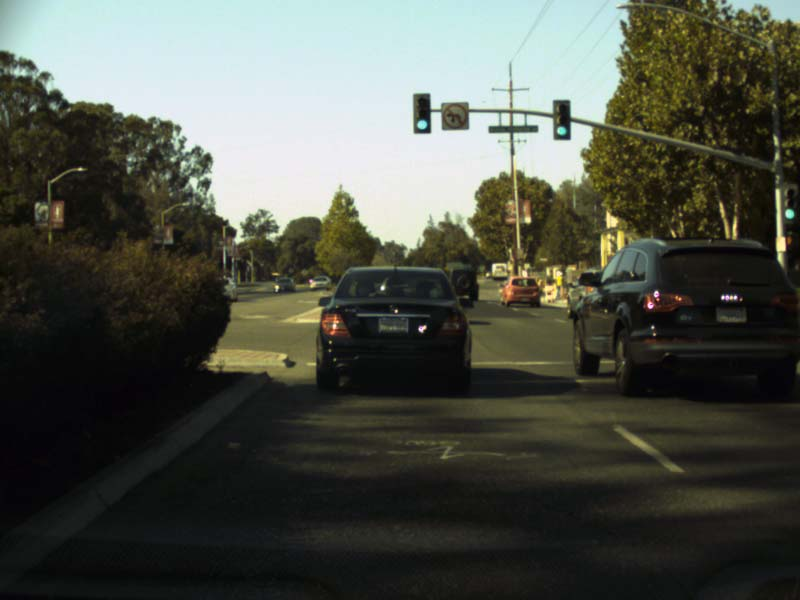Green: (412, 92, 430, 132), (552, 100, 569, 138), (783, 182, 796, 219)
